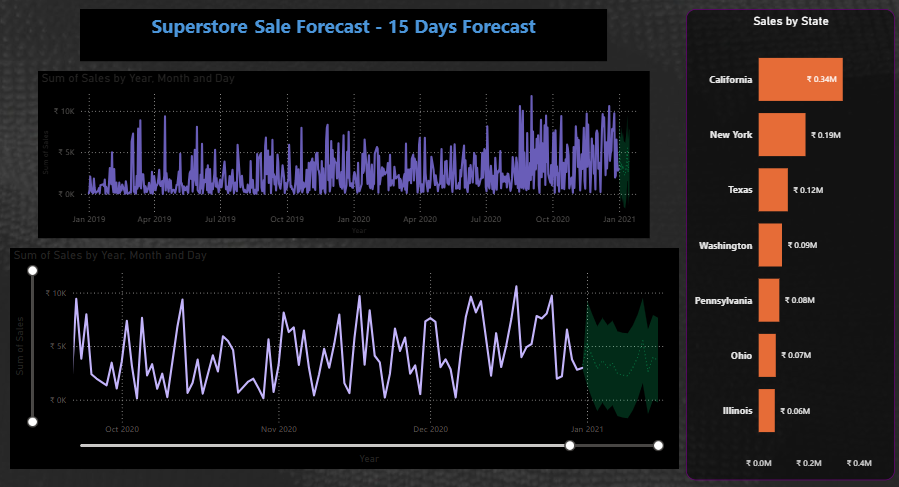

The page's visual inventory and layout, read from the dashboard file:
{"tool":"powerbi","page":{"name":"Page 2","canvas":[1280,720],"ordinal":1},"visuals":[{"type":"lineChart","fields":{"Y":["Sum(Sheet1.Sales)"],"Category":["Sheet1.Order Date.Variation.Date Hierarchy.Year","Sheet1.Order Date.Variation.Date Hierarchy.Month","Sheet1.Order Date.Variation.Date Hierarchy.Day"]},"box":[53.9,109.1,867.4,236.7],"z":0},{"type":"lineChart","fields":{"Y":["Sum(Sheet1.Sales)"],"Category":["Sheet1.Order Date.Variation.Date Hierarchy.Year","Sheet1.Order Date.Variation.Date Hierarchy.Month","Sheet1.Order Date.Variation.Date Hierarchy.Day"]},"box":[14.3,359.8,947.5,312.5],"z":1000},{"type":"clusteredBarChart","title":"Sales by  State","fields":{"Category":["Sheet1.State"],"Y":["Sum(Sheet1.Sales)"]},"box":[972.3,21.3,296.2,667.6],"z":2000},{"type":"textbox","box":[113.4,21.3,746.9,73.7],"z":3000}]}

Visuals, with their boxes on the page's 1280x720 design canvas (x1, y1, x2, y2). These are canvas units, not pixel positions in the 899x487 screenshot, which may show the page scaled, cropped or inside an application window:
lineChart - Sum(Sheet1.Sales) x Sheet1.Order Date.Variation.Date Hierarchy.Year: <region>54, 109, 921, 346</region>
lineChart - Sum(Sheet1.Sales) x Sheet1.Order Date.Variation.Date Hierarchy.Year: <region>14, 360, 962, 672</region>
"Sales by  State" clusteredBarChart: <region>972, 21, 1268, 689</region>
textbox: <region>113, 21, 860, 95</region>
